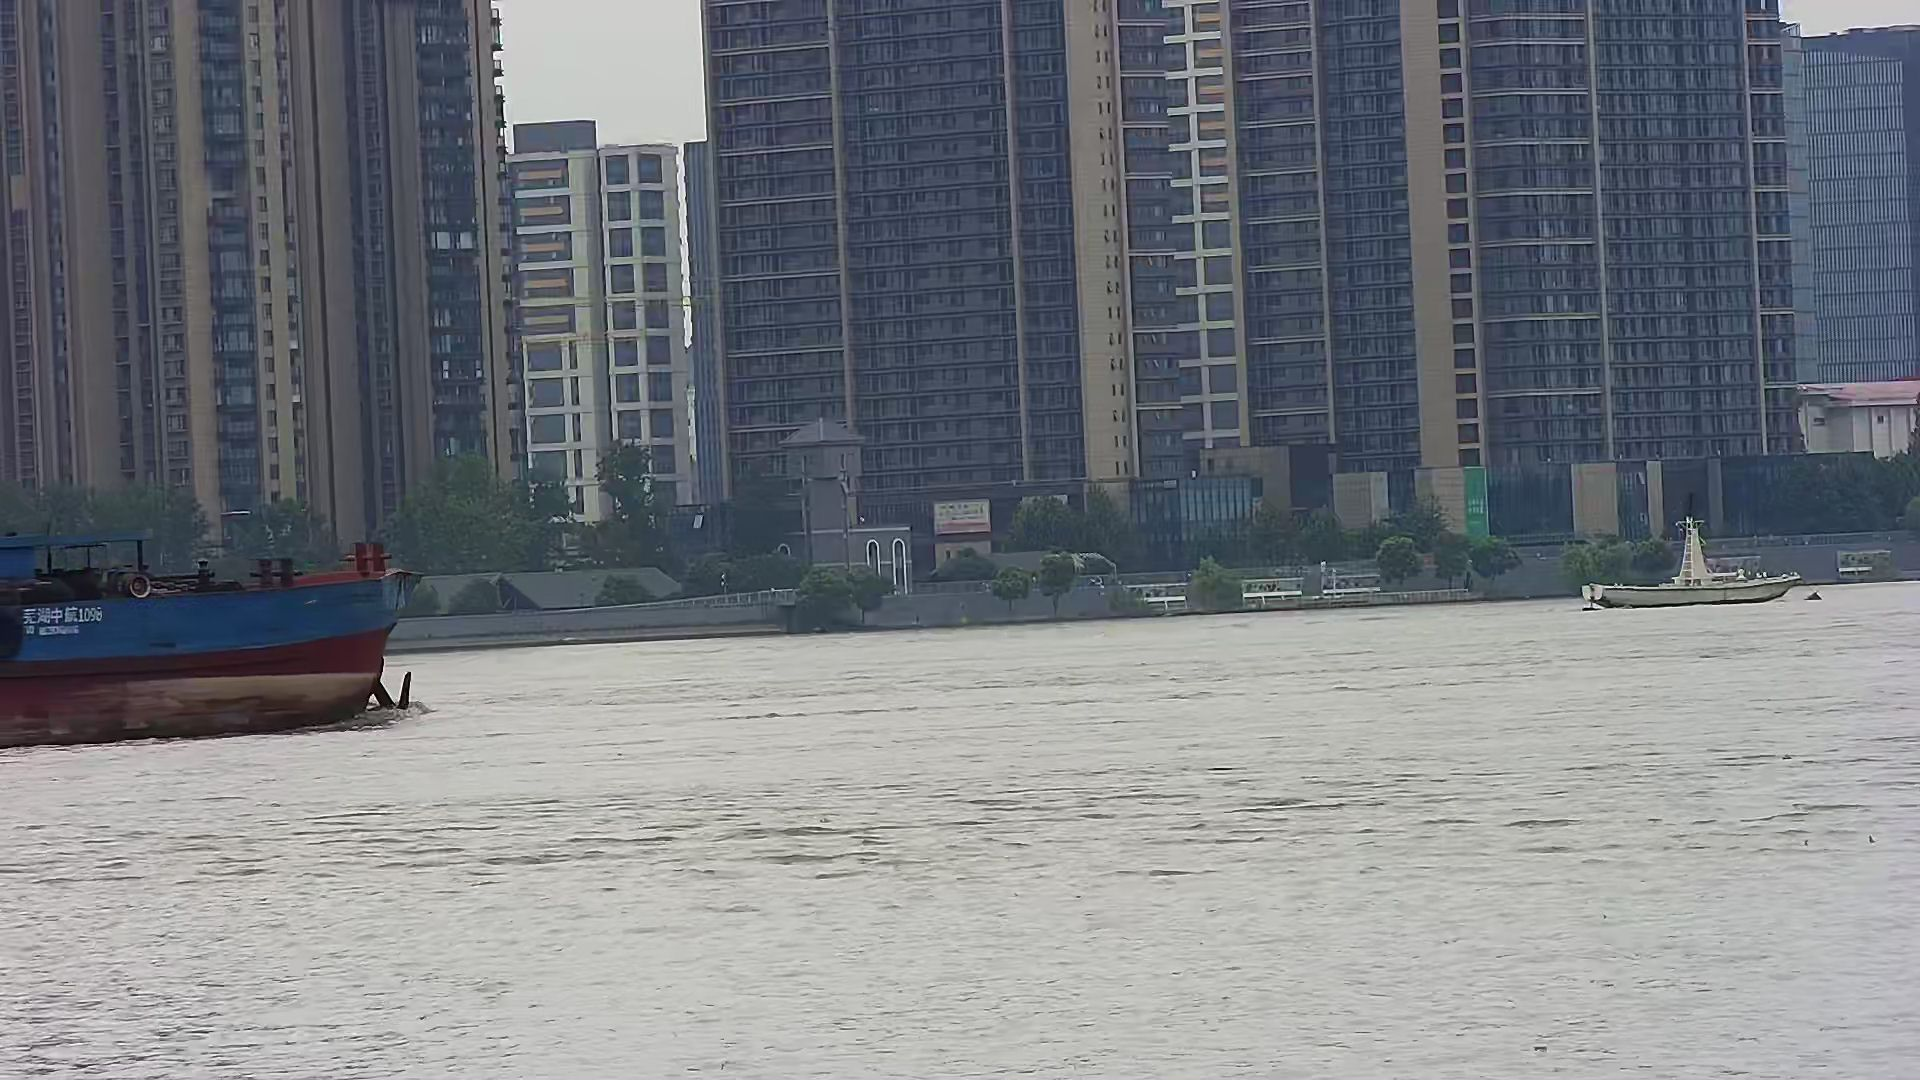boat: (1569, 498, 1847, 632)
ship: (1, 504, 444, 770)
